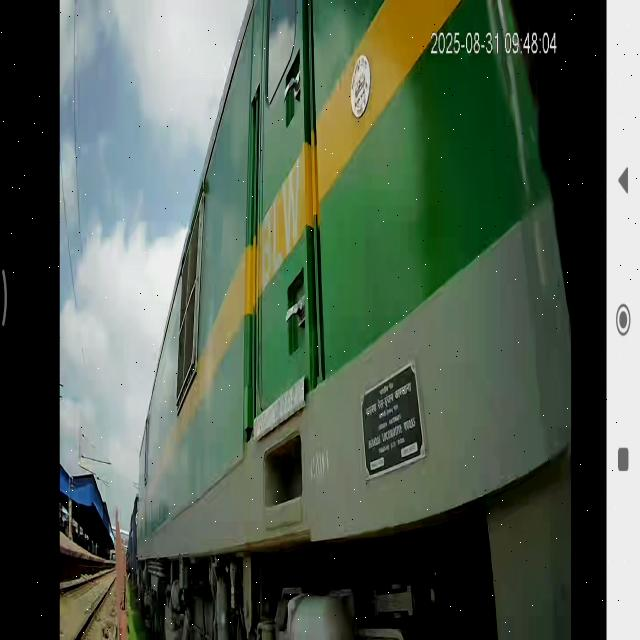engine: (120, 0, 574, 640)
